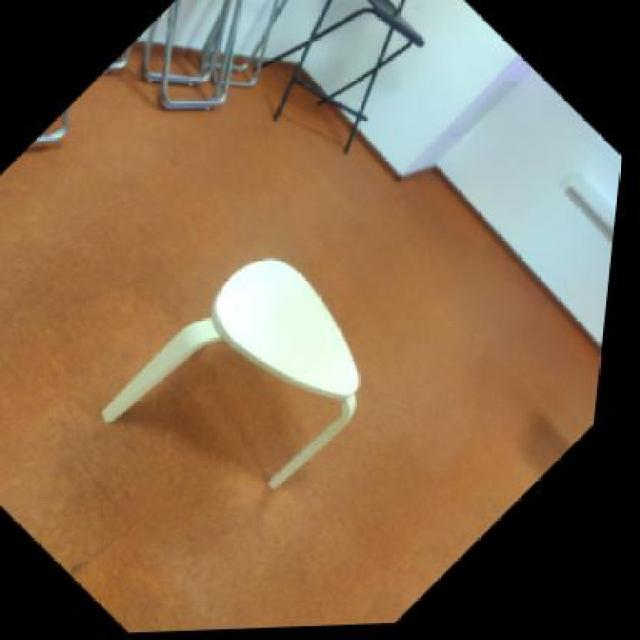chair: (72, 240, 388, 482), (198, 0, 503, 198)
